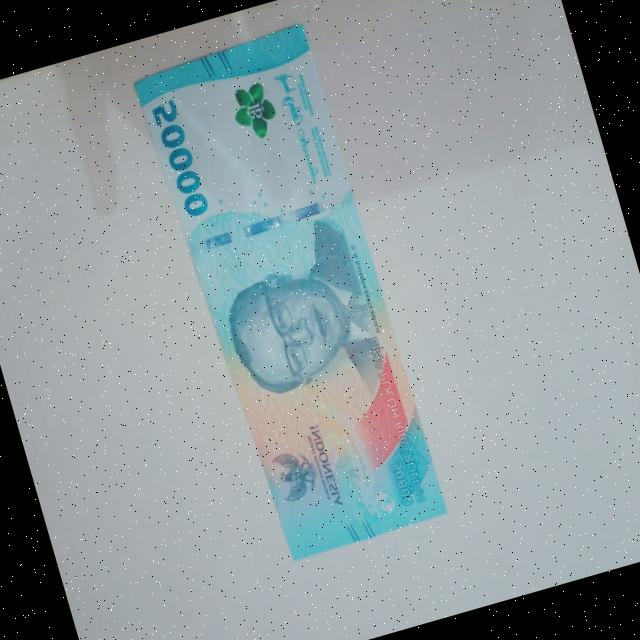50K: (126, 13, 455, 577)
